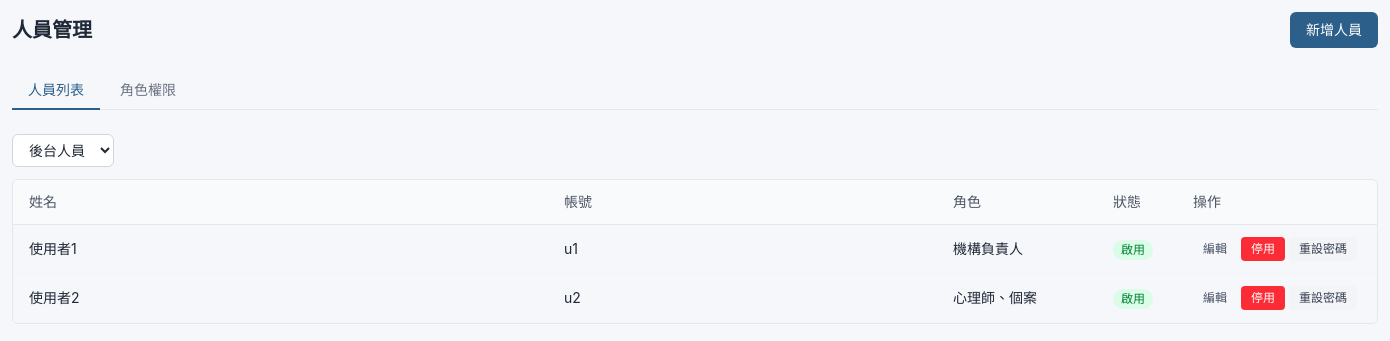
Test: StaffManageView 人員清單 › 角色顯示中文，個案帳號預設不列在後台人員，切換後可管理
The image size is (1390, 341).
Expected: the text "使用者3" is not shown
Select "個案帳號" in the dropdown with test id "account-kind". click: point(63, 150)
box: x1=12 y1=134 x2=114 y2=167
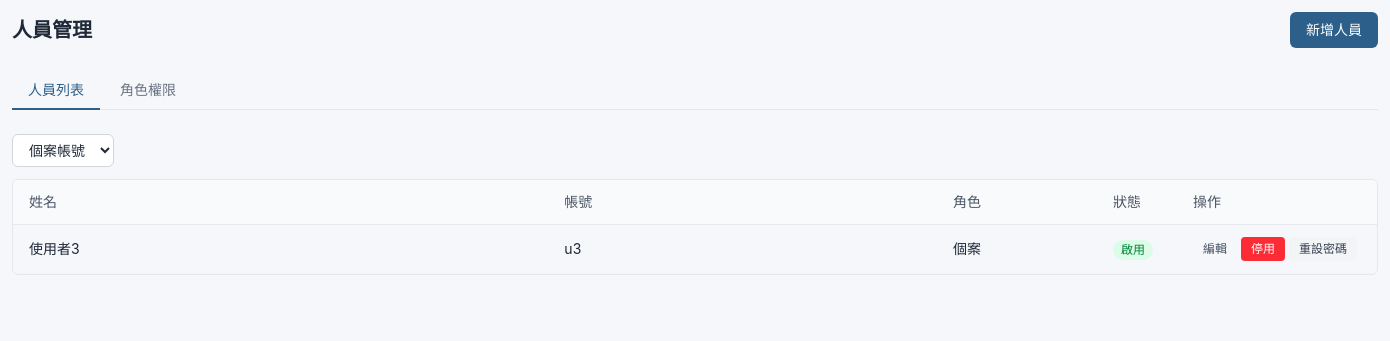
Expected: the text "使用者3" is shown, x1=13 y1=224 x2=548 y2=274
Expected: the text "機構負責人" is gone
